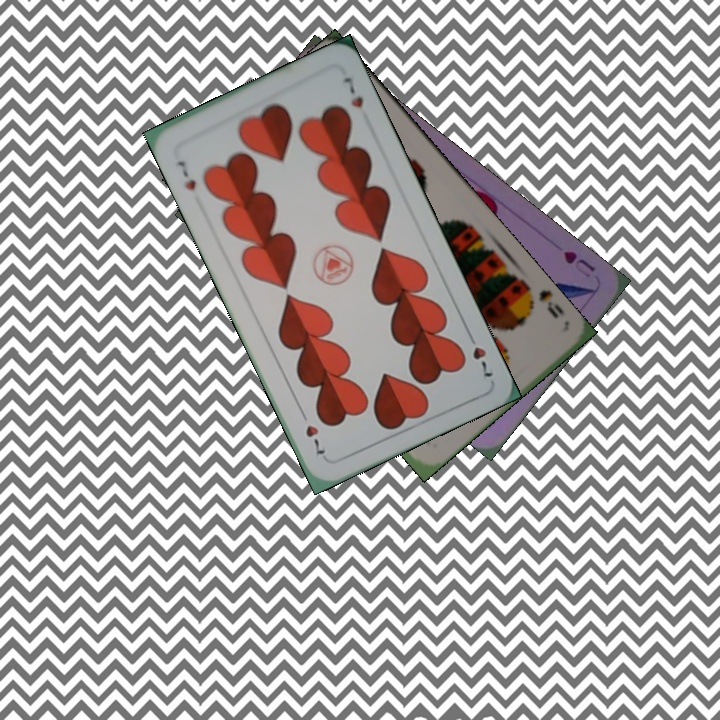H7: (463, 327, 496, 382), (173, 156, 199, 193)
HU: (559, 246, 599, 281)
S9: (534, 285, 567, 321)
